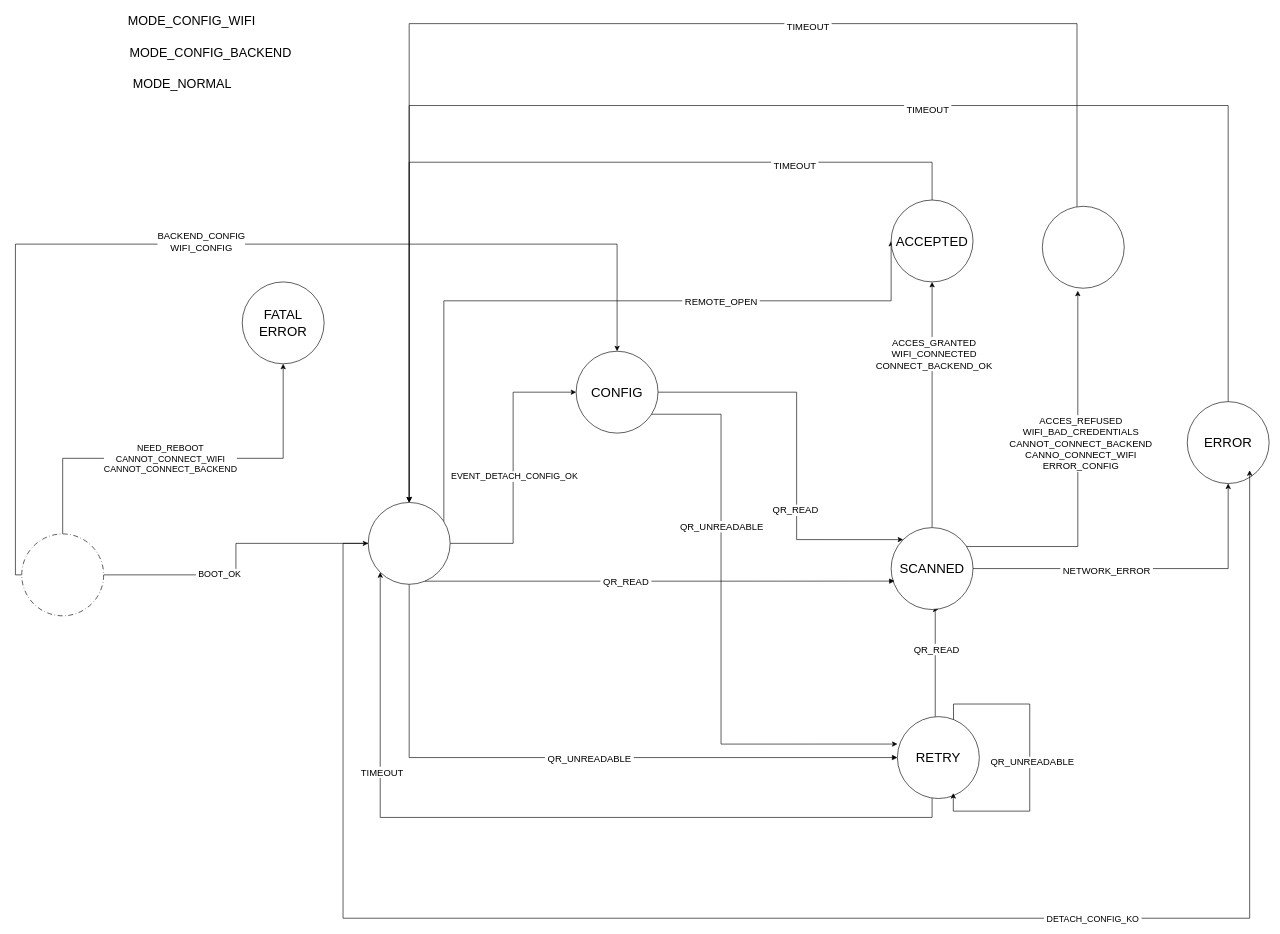
Some shapes in this 1280 by 934 pixel diagram are drawn without their labels. Here are the shapes that lost their labels. From the top down, the centre of each, then its label:
At [1083,247]: "REFUSED".
At [409,543]: "IDLE".
At [62,574]: "BOOTING".
